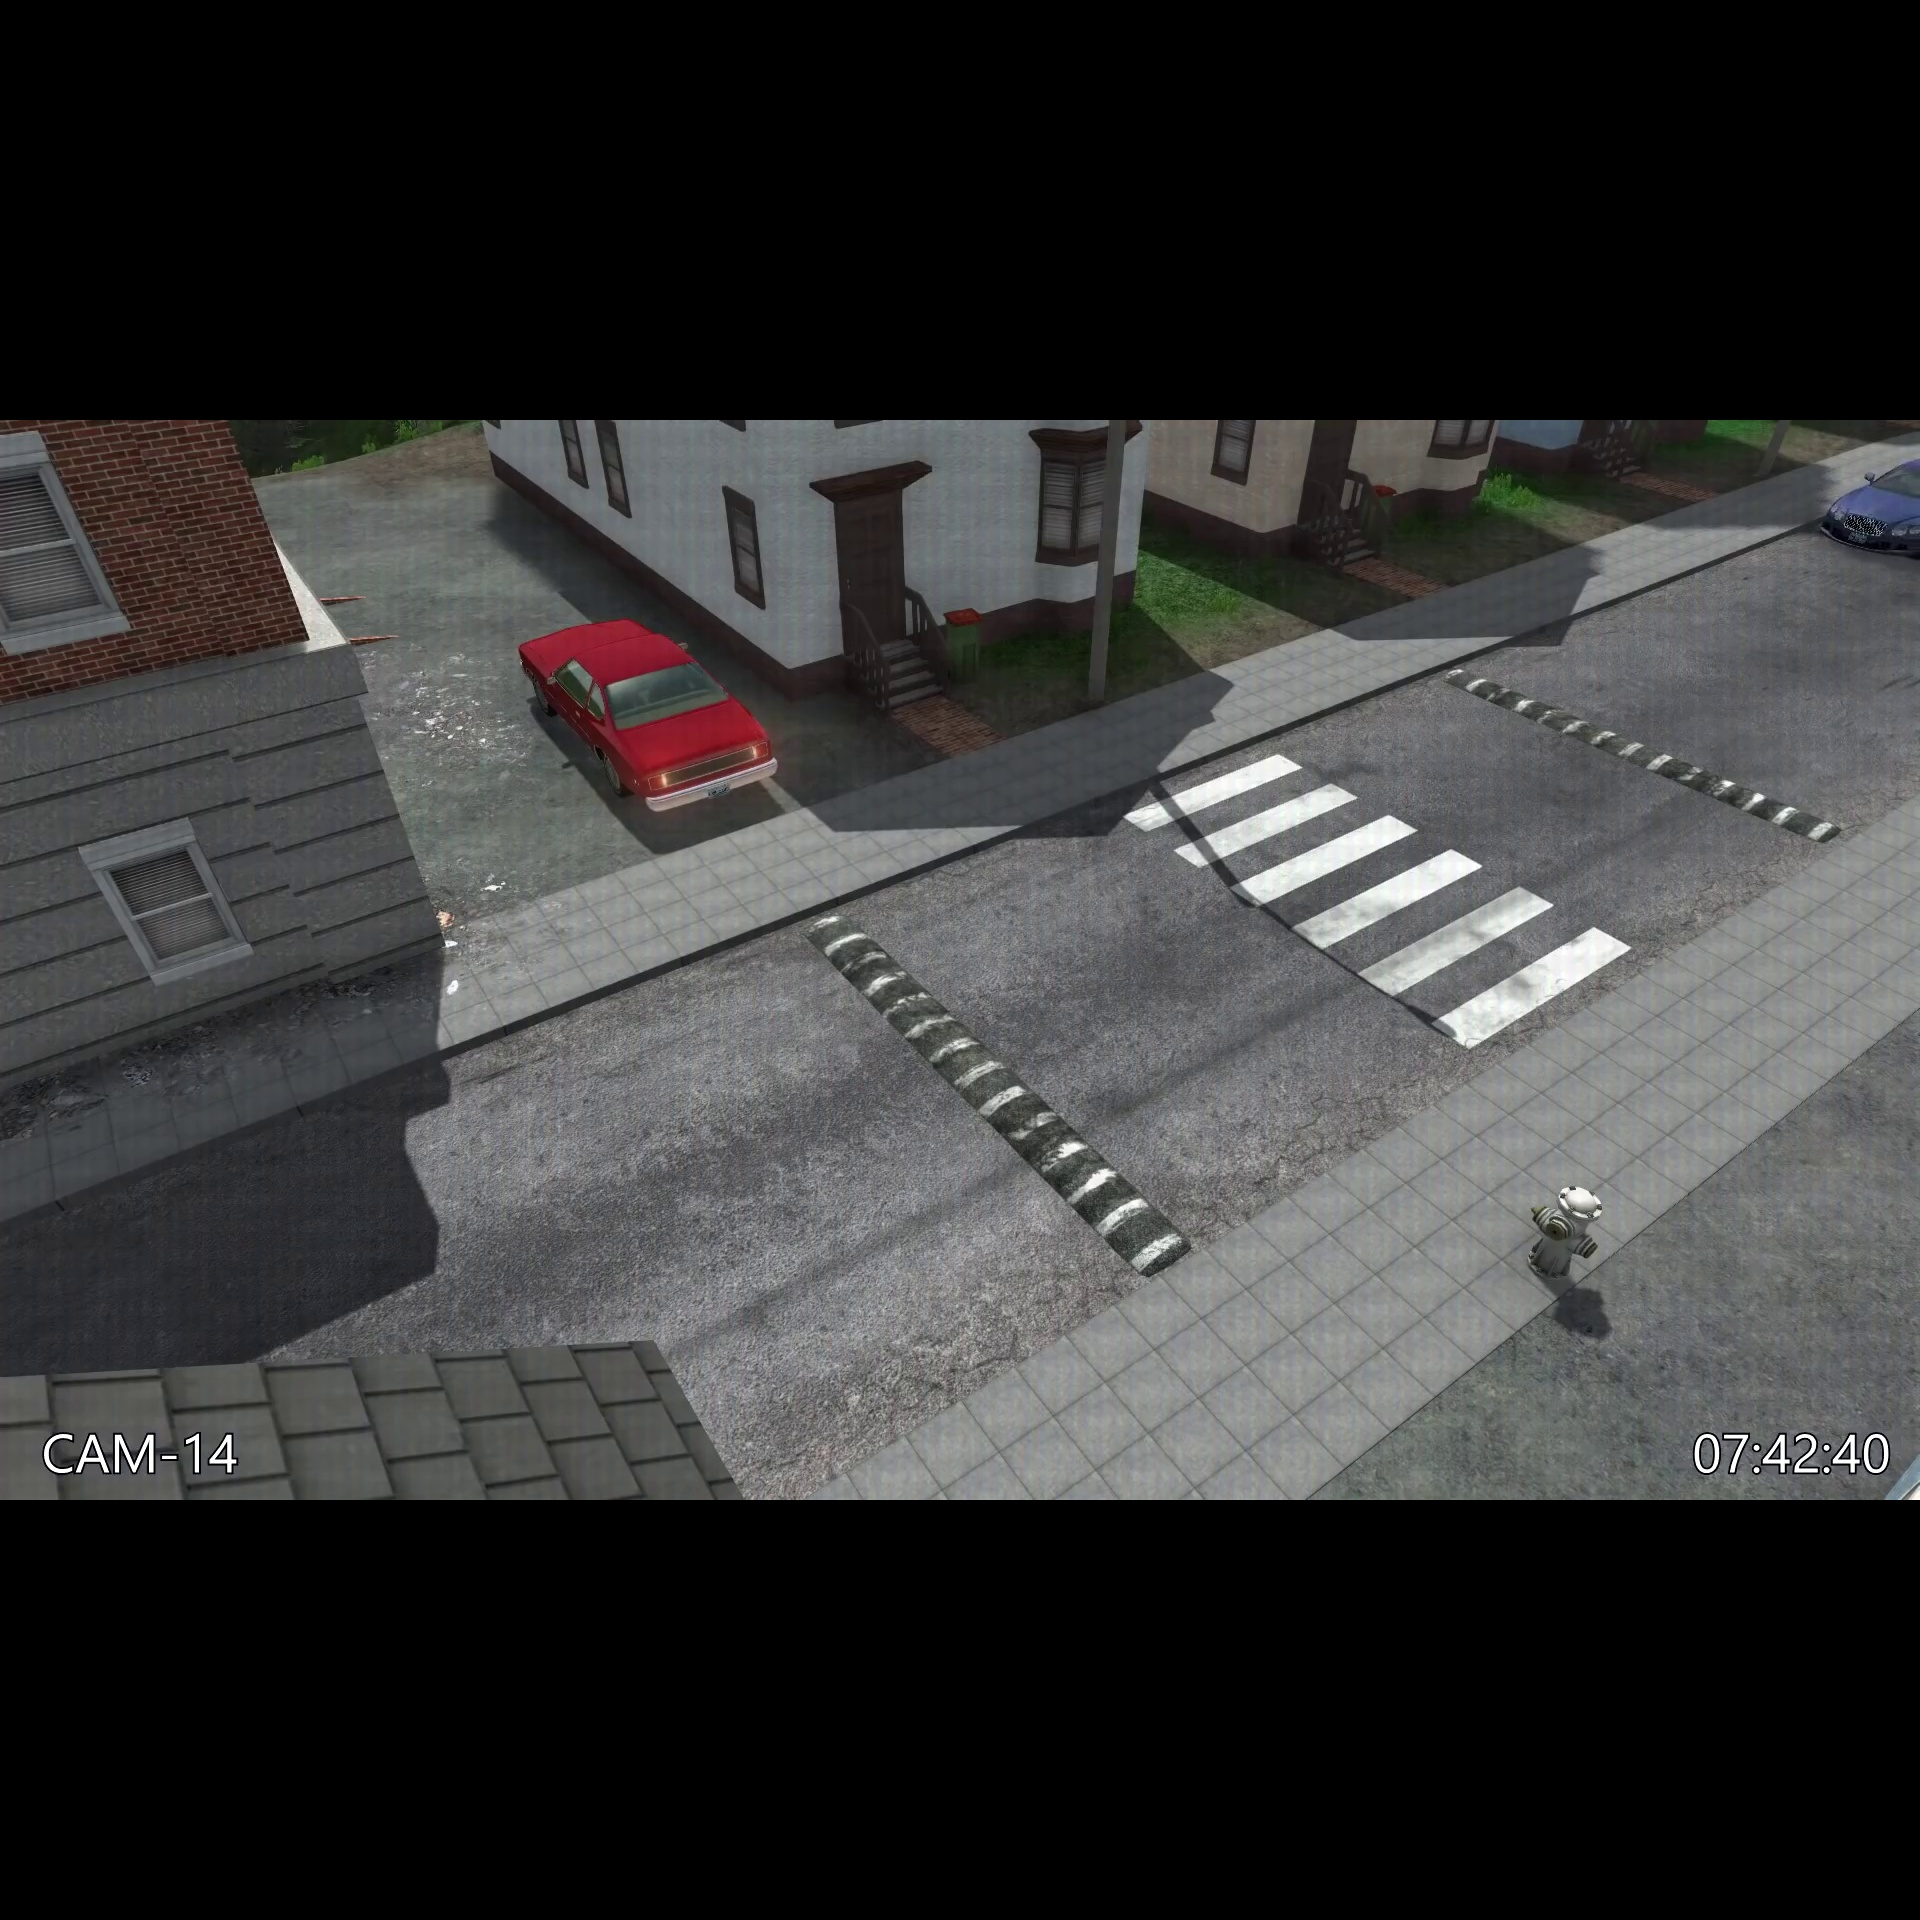vehicle: (513, 605, 788, 819), (1813, 455, 1920, 566)
